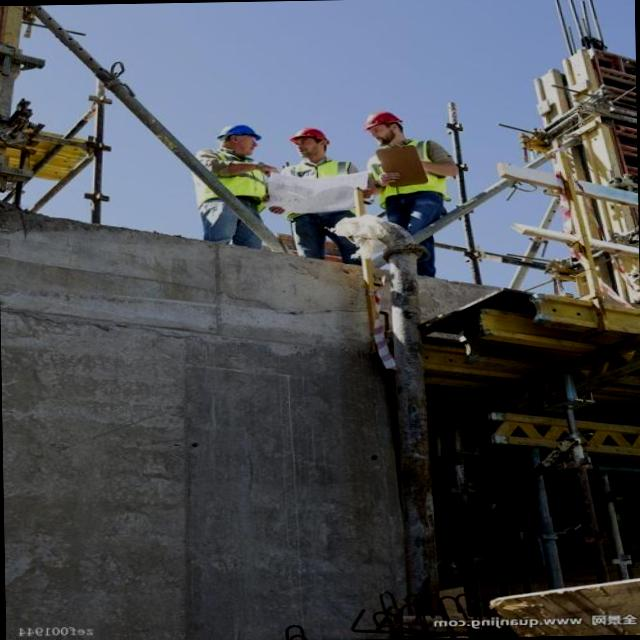helmet: (365, 108, 400, 128), (220, 123, 258, 139), (292, 128, 328, 142)
